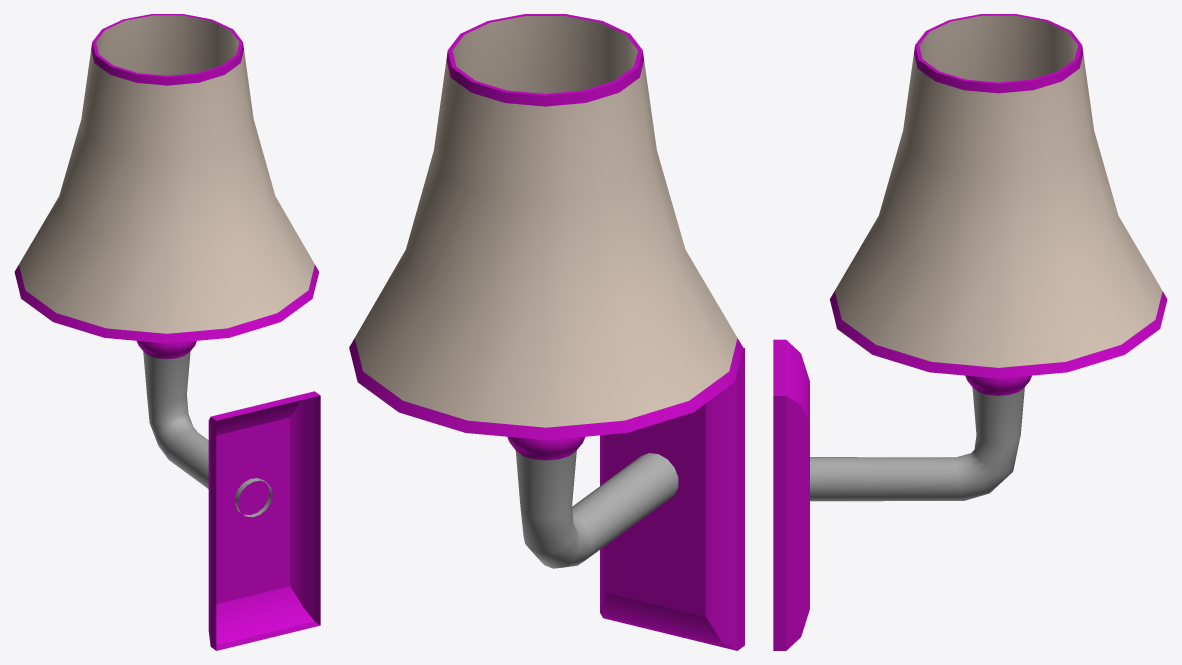
The model's file is WW_CinemaLamp_Prop.fbx.
3 renders of one model, left to right at view 1: azimuth 30°, elevation 25°; view 2: azimuth 150°, elevation 25°; view 3: azimuth 270°, elevation 25°, orthographic. The views are drawn at different scales.
Parts seen in each view (by area): view 1: LightShade, WallPlate, LampHolder; view 2: LightShade, WallPlate, LampHolder; view 3: LightShade, LampHolder, WallPlate.
Boxes of the visible parts, <box> form: LightShade: <box>14,14,319,343</box>; WallPlate: <box>208,391,320,650</box>; LampHolder: <box>136,341,272,517</box>; LightShade: <box>349,14,743,440</box>; WallPlate: <box>600,347,744,650</box>; LampHolder: <box>507,436,678,568</box>; LightShade: <box>829,14,1167,378</box>; LampHolder: <box>810,375,1031,501</box>; WallPlate: <box>773,339,809,650</box>.
Size of the model in its own units: 33.92 by 64.01 by 39.8.
